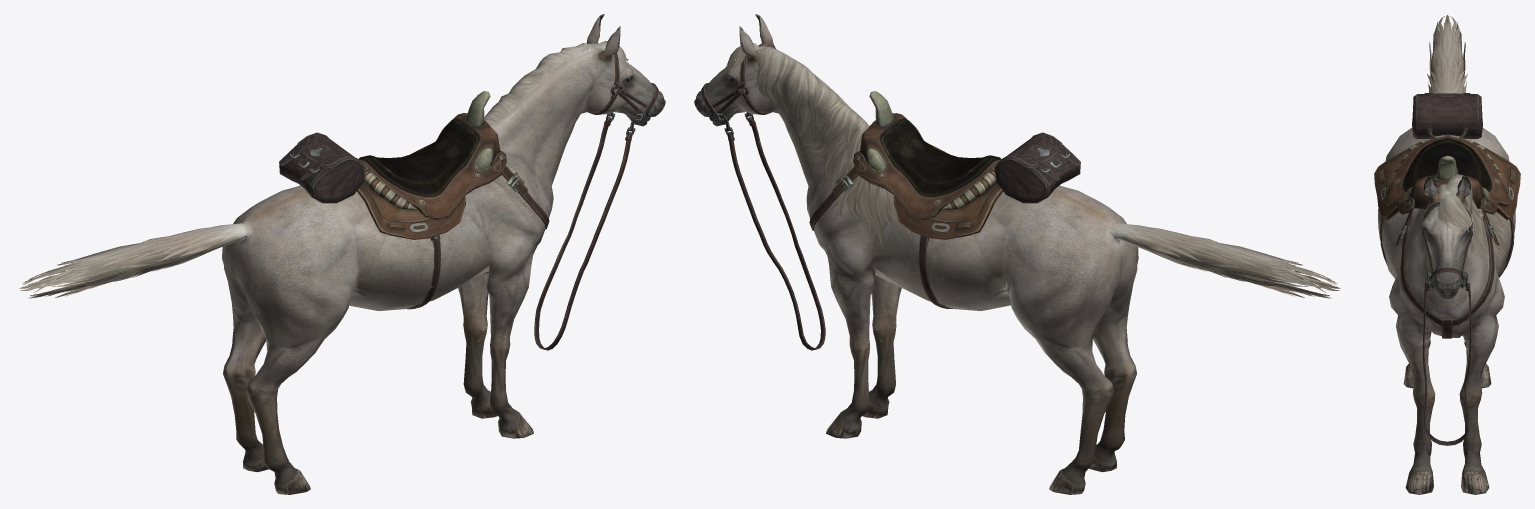
The model's file is horse.obj.
3 renders of one model, left to right at view 1: azimuth 30°, elevation 25°; view 2: azimuth 150°, elevation 25°; view 3: azimuth 270°, elevation 25°, orthographic. The views are drawn at different scales.
Visible parts, largest first — view 1: U3DMesh; view 2: U3DMesh; view 3: U3DMesh.
Boxes of the visible parts, box(x1,y1,x2,y2) form: U3DMesh: box(19, 14, 665, 494); U3DMesh: box(694, 14, 1340, 494); U3DMesh: box(1374, 15, 1520, 494).
Size of the model in its own units: 3.13 by 1.74 by 0.6371.
2 materials, 2 textured.
